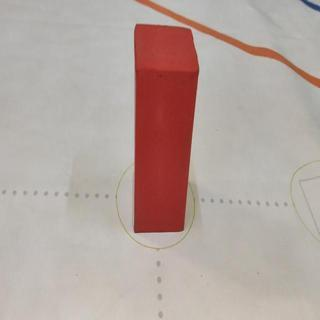redbox: (133, 21, 200, 233)
